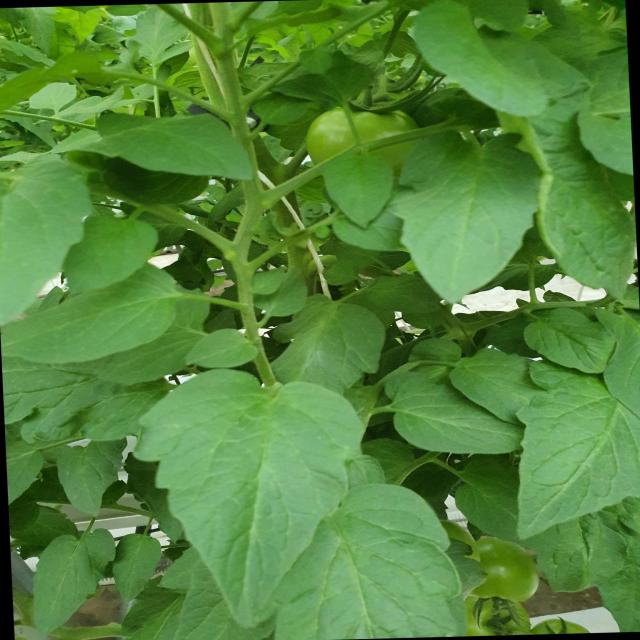Healthy Leaf: (139, 378, 388, 630), (1, 243, 215, 384), (396, 125, 552, 307), (504, 359, 640, 541), (96, 109, 294, 200)
